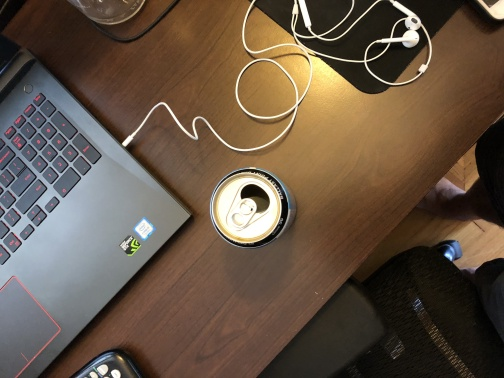can: (208, 165, 300, 250)
